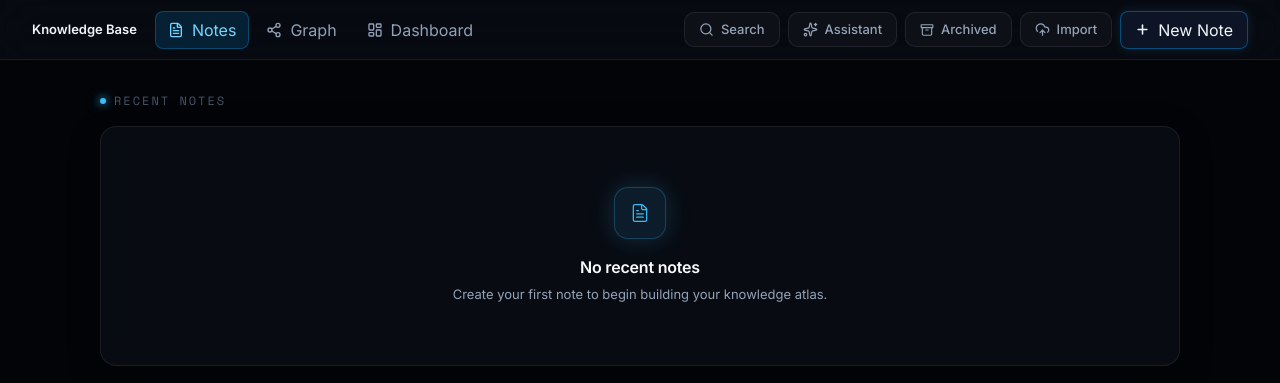
Test: NotesDashboard › toggles archived view
# Click archived toggle (button with text "Archived")
Click the button "Archived": (958, 30) [905, 12, 1012, 47]
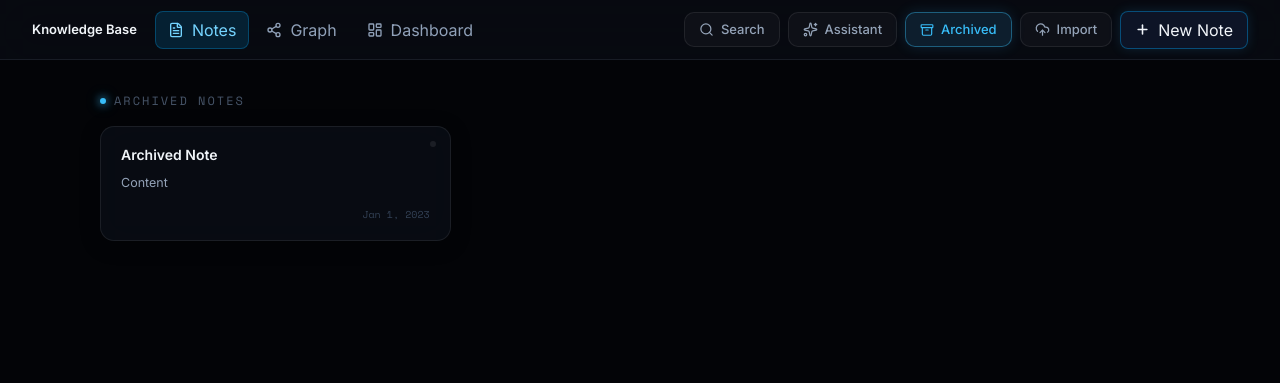
Result: the heading "Archived Notes" is shown at [100, 92, 245, 109]
Result: the heading "Archived Note" is shown at [121, 146, 218, 163]
